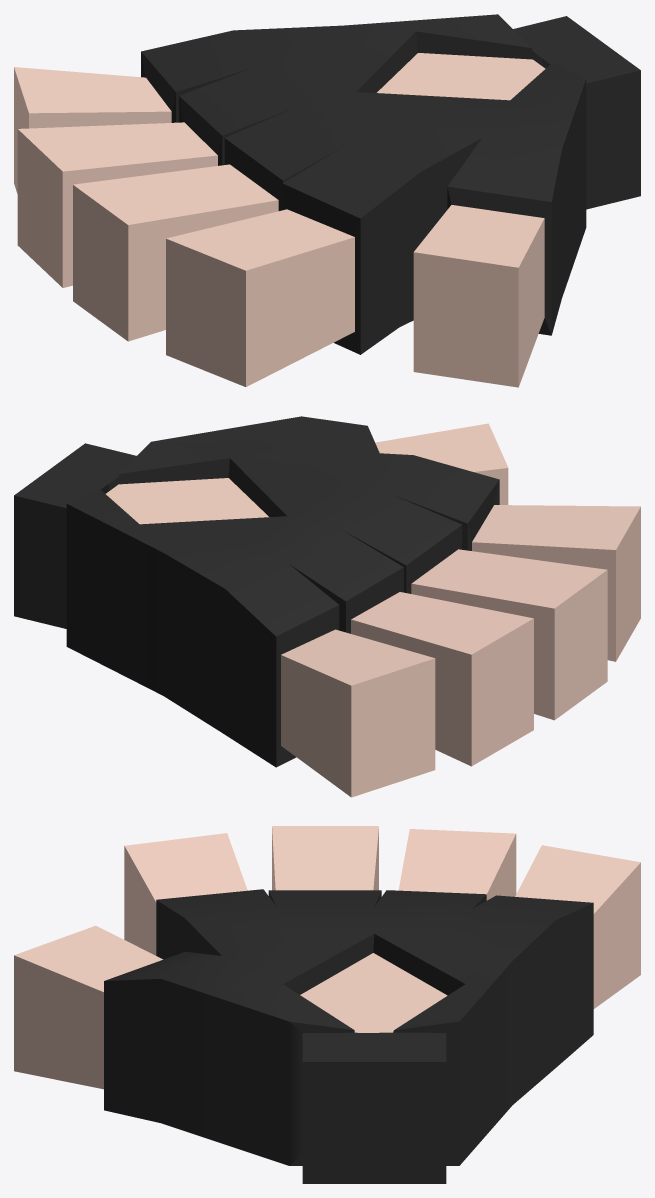
File: handL.fbx
3 renders of one model, top to bottom at view 1: azimuth 30°, elevation 25°; view 2: azimuth 150°, elevation 25°; view 3: azimuth 270°, elevation 25°, orthographic. The views are drawn at different scales.
Visible parts, largest first — view 1: hand2; view 2: hand2; view 3: hand2.
Boxes of the visible parts, bbox=[...] form: hand2: bbox=[14, 14, 640, 387]; hand2: bbox=[14, 416, 640, 797]; hand2: bbox=[14, 826, 640, 1183].
Size of the model in its own units: 3.42 by 0.9592 by 3.63.
Materials: 3 (2 with a texture image).
